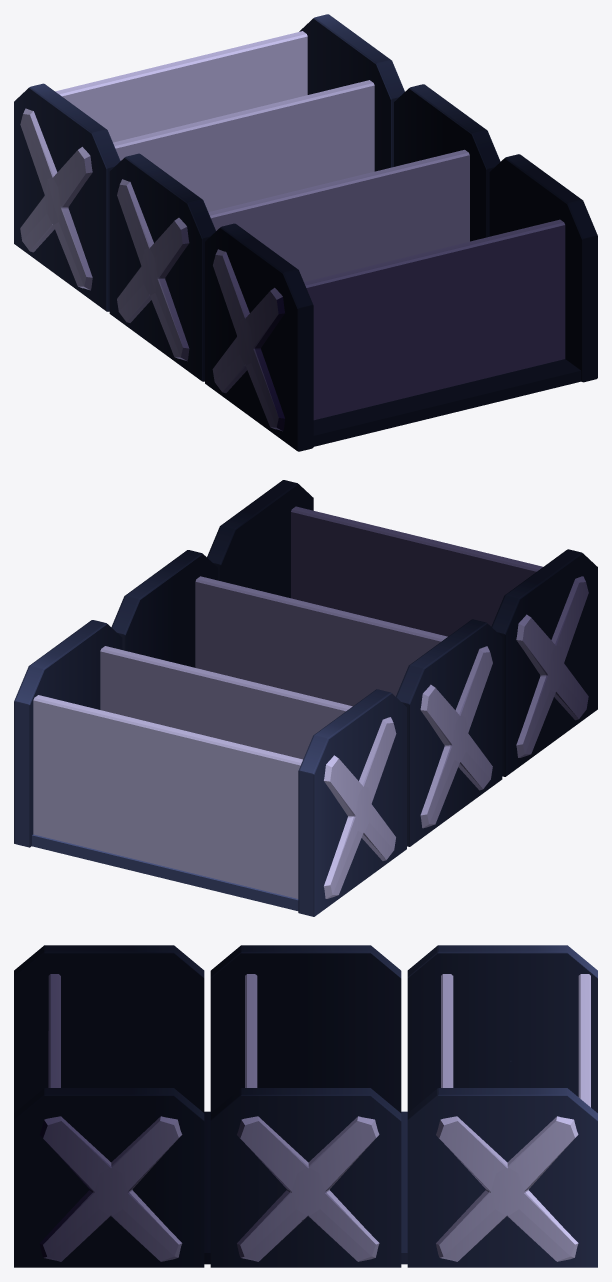
Rendered from Shelf2.fbx.
3 views of the same model, one above another, from view 1: azimuth 30°, elevation 25°; view 2: azimuth 150°, elevation 25°; view 3: azimuth 270°, elevation 25° (orthographic). The views are drawn at different scales.
Visible parts, largest first — view 1: Shelf.046; view 2: Shelf.046; view 3: Shelf.046.
Boxes of the visible parts, x1,y1,x2,y2 form: Shelf.046: [14, 14, 597, 451]; Shelf.046: [14, 480, 597, 916]; Shelf.046: [14, 945, 597, 1267].
Bounding box in the file's own units: 71.47 × 34.79 × 106.
Materials: 1 (1 with a texture image).
